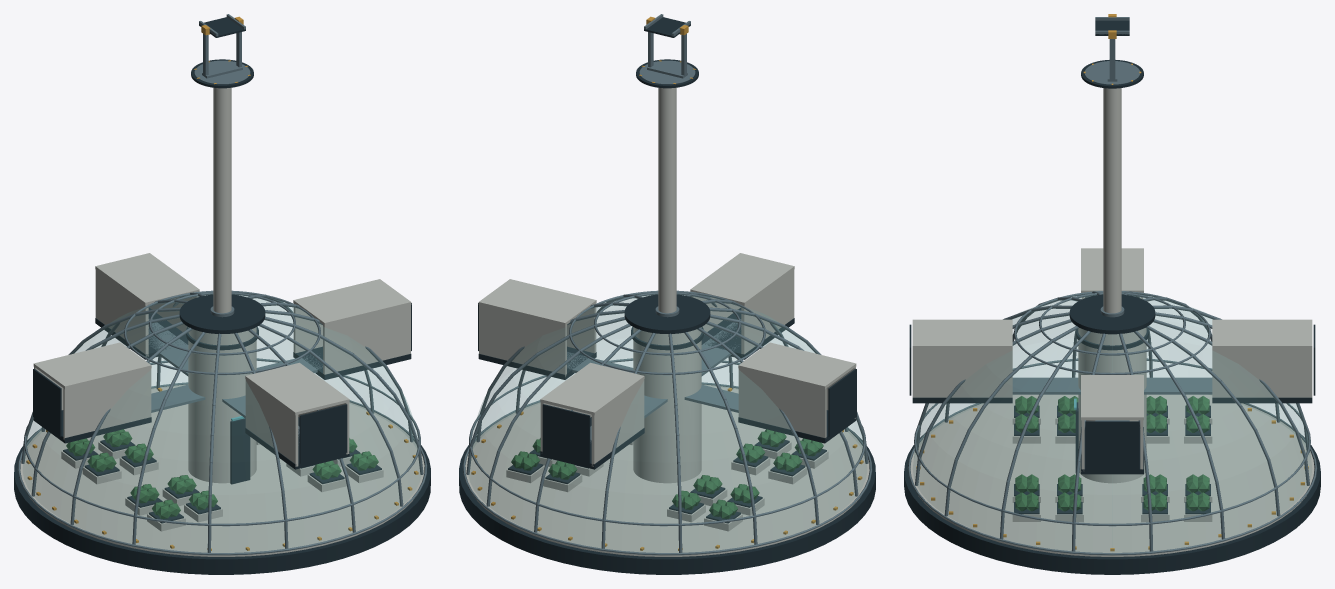
The model's file is biosphere_d0_lod0.glb.
3 renders of one model, left to right at view 1: azimuth 30°, elevation 25°; view 2: azimuth 150°, elevation 25°; view 3: azimuth 270°, elevation 25°, orthographic.
Parts seen in each view (by area): view 1: BODY, SHELL, PORT_CAP_N, PORT_CAP_W, FORK, CRADLE; view 2: BODY, SHELL, PORT_CAP_S, PORT_CAP_W, FORK, CRADLE; view 3: BODY, SHELL, PORT_CAP_E, CRADLE.
Boxes of the visible parts, x1,y1,x2,y2 form: BODY: (14,59,430,574); SHELL: (23,294,420,552); PORT_CAP_N: (299,404,347,463); PORT_CAP_W: (33,368,61,436); FORK: (201,16,243,78); CRADLE: (199,14,245,37); BODY: (459,59,875,574); SHELL: (469,294,866,552); PORT_CAP_S: (542,404,590,463); PORT_CAP_W: (828,368,856,436); FORK: (646,16,688,78); CRADLE: (644,14,690,37); BODY: (904,60,1320,574); SHELL: (913,295,1311,552); PORT_CAP_E: (1085,421,1139,469); CRADLE: (1095,17,1129,35).
Size of the model in its own units: 29.2 by 35.85 by 29.2.
